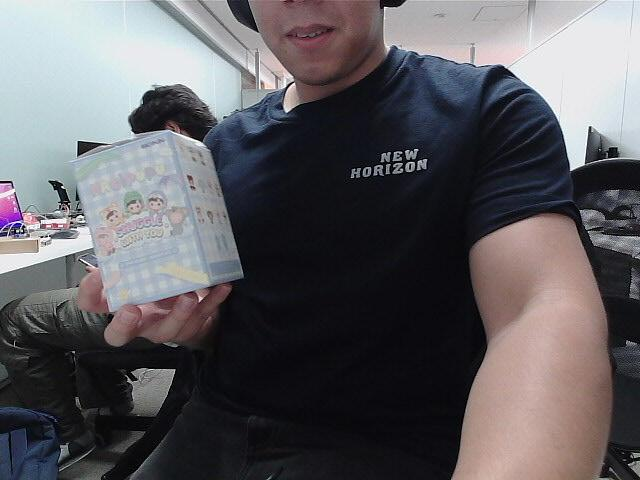Blind_box: (66, 124, 246, 308)
